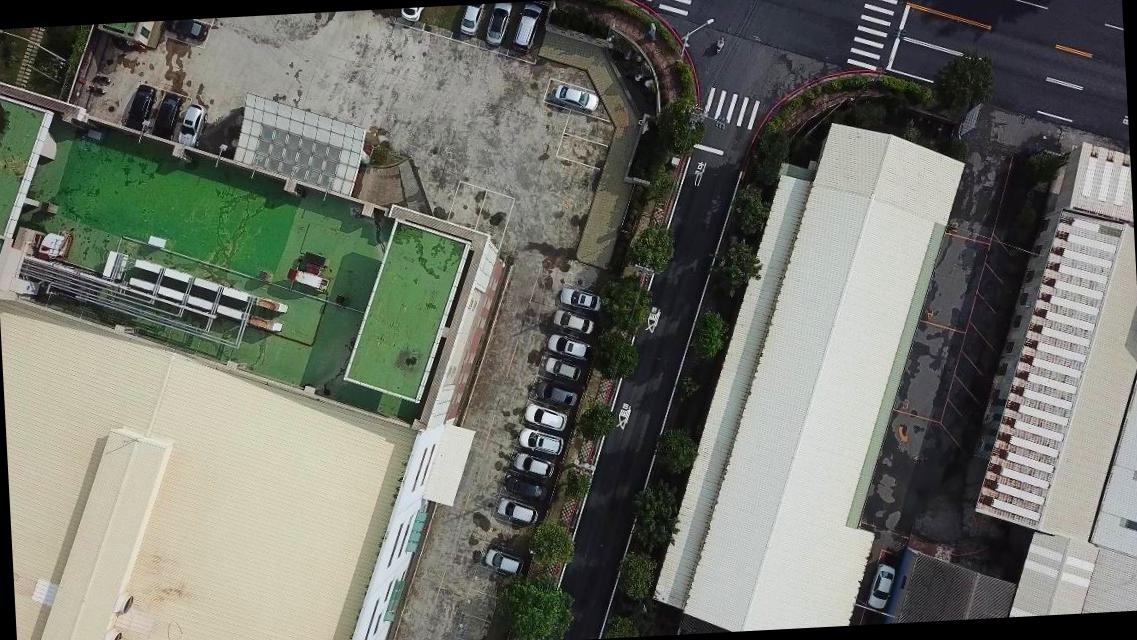vehicle: (512, 2, 544, 55), (122, 82, 157, 130), (514, 424, 566, 456), (175, 100, 208, 148), (545, 330, 592, 363), (552, 82, 598, 114), (150, 92, 182, 137), (502, 472, 549, 502), (867, 564, 896, 612), (550, 308, 596, 338), (522, 402, 568, 432), (534, 379, 578, 410), (482, 4, 514, 46), (496, 497, 542, 526), (558, 286, 604, 314), (510, 451, 552, 480), (484, 546, 525, 574), (166, 20, 211, 44), (542, 357, 581, 382), (456, 5, 482, 36), (400, 8, 429, 22)
